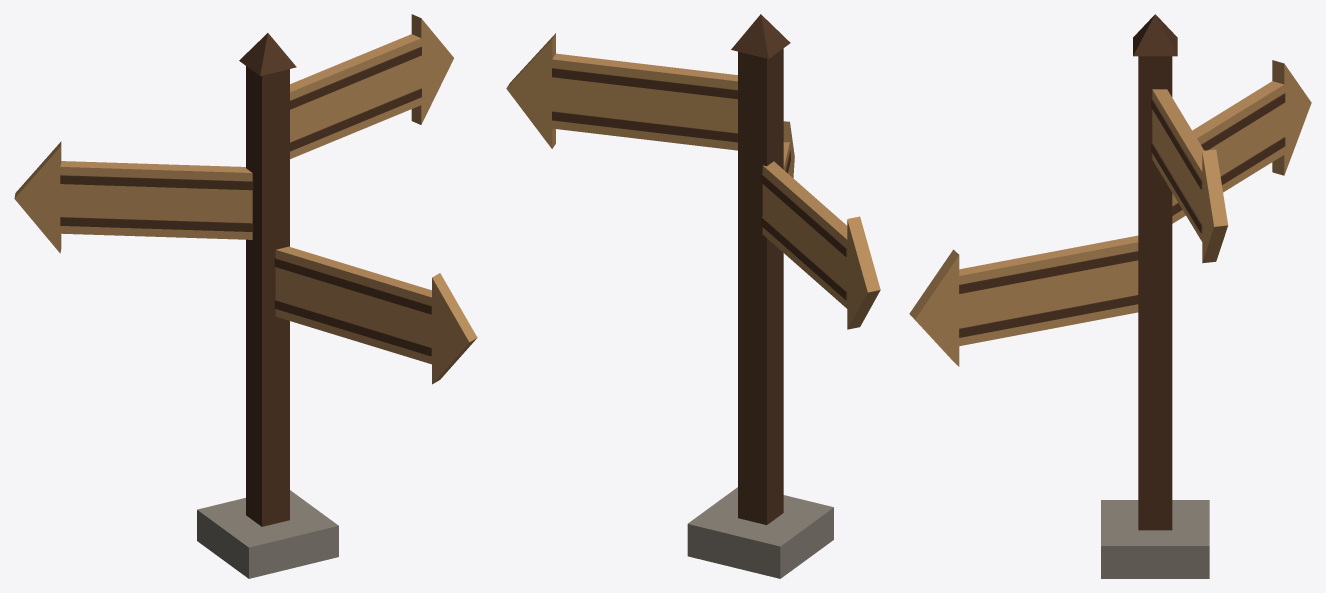
The model's file is Wegweiser.fbx.
The picture shows the model from 3 angles, left to right: view 1: azimuth 30°, elevation 25°; view 2: azimuth 150°, elevation 25°; view 3: azimuth 270°, elevation 25°; orthographic projection. The views are drawn at different scales.
Parts seen in each view (by area): view 1: Wegweiser; view 2: Wegweiser; view 3: Wegweiser.
Part boxes in pixels (<box>): Wegweiser: <box>14,14,477,578</box>; Wegweiser: <box>506,14,880,578</box>; Wegweiser: <box>909,14,1311,578</box>.
Bounding box in the file's own units: 2 × 2.47 × 1.66.
